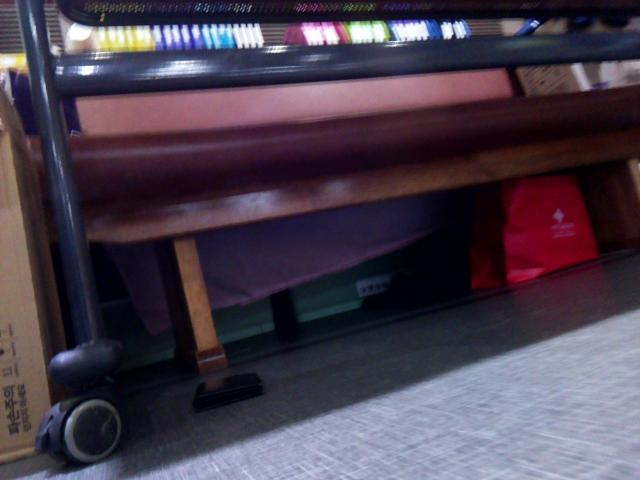wallet: (185, 369, 272, 419)
